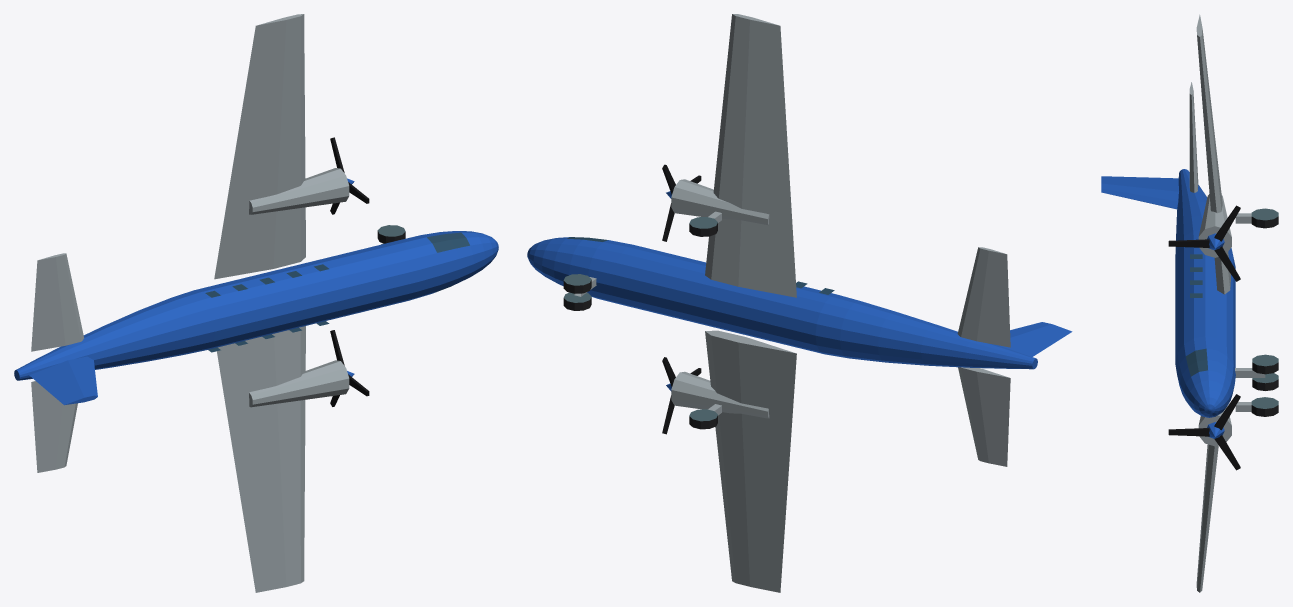
3 renders of one model, left to right at view 1: azimuth 30°, elevation 25°; view 2: azimuth 150°, elevation 25°; view 3: azimuth 270°, elevation 25°, orthographic. The views are drawn at different scales.
Visible parts, largest first — view 1: default_fuselage, default_wing-1, default_wing1, default_tailplane1, default_tailplane-1, default_engine1.9-1, default_engine1.91, default_fin1; view 2: default_fuselage, default_wing1, default_wing-1, default_tailplane1, default_tailplane-1, default_engine1.91, default_engine1.9-1, default_fin1; view 3: default_fuselage, default_wing1, default_fin1, default_wing-1, default_engine1.91, default_tailplane1, default_main1_wheel0.0, default_main-1_wheel0.0, default_engine1.9-1, default_nose_gear_wheel0.17, default_nose_gear_wheel-0.17, default_engine1.91_blade0 (+6 smaller).
Boxes of the visible parts, x1=… form: default_fuselage: x1=14, y1=231, x2=498, y2=380; default_wing-1: x1=217, y1=326, x2=305, y2=592; default_wing1: x1=214, y1=14, x2=305, y2=279; default_tailplane1: x1=31, y1=253, x2=83, y2=351; default_tailplane-1: x1=31, y1=381, x2=77, y2=472; default_engine1.9-1: x1=249, y1=360, x2=349, y2=407; default_engine1.91: x1=249, y1=168, x2=349, y2=214; default_fin1: x1=29, y1=356, x2=97, y2=405; default_fuselage: x1=527, y1=237, x2=1037, y2=369; default_wing1: x1=705, y1=14, x2=796, y2=297; default_wing-1: x1=705, y1=330, x2=796, y2=592; default_tailplane1: x1=957, y1=247, x2=1010, y2=347; default_tailplane-1: x1=958, y1=367, x2=1010, y2=466; default_engine1.91: x1=671, y1=179, x2=769, y2=225; default_engine1.9-1: x1=671, y1=371, x2=769, y2=418; default_fin1: x1=1000, y1=322, x2=1072, y2=356; default_fuselage: x1=1175, y1=169, x2=1235, y2=417; default_wing1: x1=1196, y1=14, x2=1230, y2=294; default_fin1: x1=1101, y1=176, x2=1178, y2=209; default_wing-1: x1=1196, y1=444, x2=1218, y2=592; default_engine1.91: x1=1198, y1=194, x2=1231, y2=257; default_tailplane1: x1=1189, y1=82, x2=1198, y2=192; default_main1_wheel0.0: x1=1251, y1=208, x2=1278, y2=228; default_main-1_wheel0.0: x1=1251, y1=397, x2=1278, y2=416; default_engine1.9-1: x1=1198, y1=406, x2=1231, y2=446; default_nose_gear_wheel0.17: x1=1252, y1=354, x2=1278, y2=374; default_nose_gear_wheel-0.17: x1=1252, y1=373, x2=1278, y2=390; default_engine1.91_blade0: x1=1168, y1=239, x2=1209, y2=247.
Bounding box in the file's own units: 10.2 × 11.2 × 3.24.
